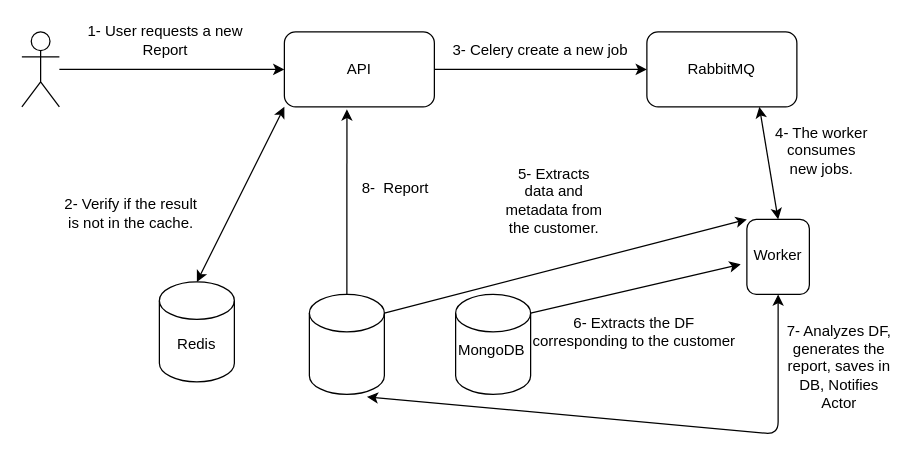
This 921x468 diagram has some shape labels left out. Each missing label, with the box of its shape:
Actor: (21, 31, 59, 107)
Postgresql: (308, 293, 384, 394)
